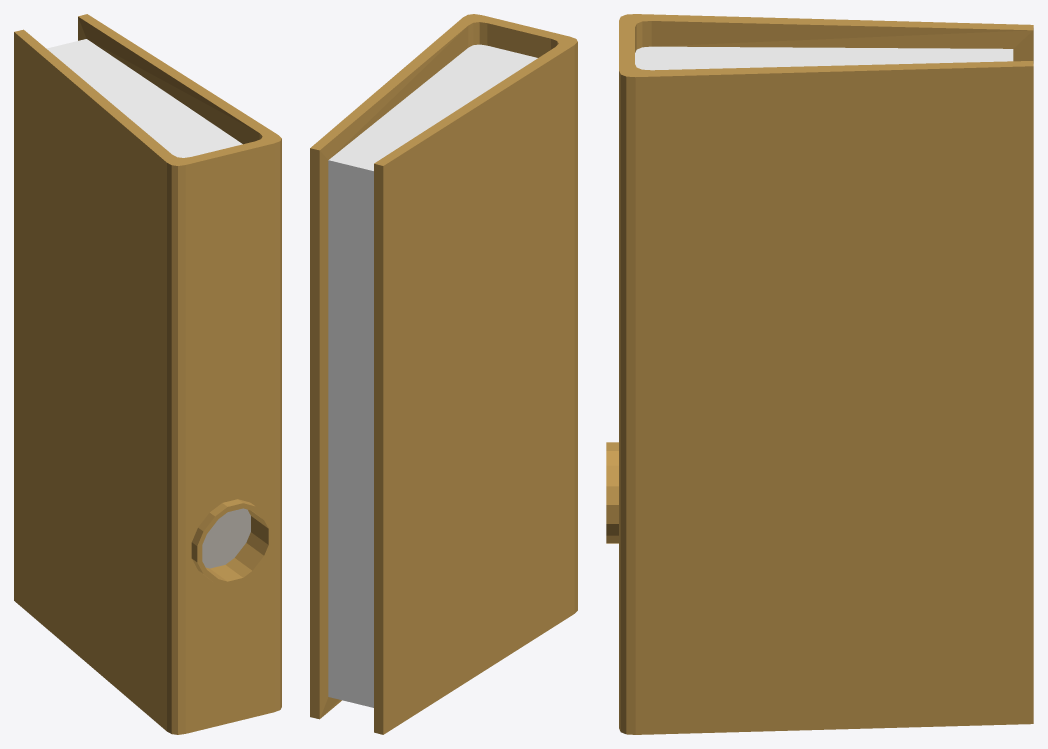
The model's file is Pasta.FBX.
3 views of the same model, side by side, from view 1: azimuth 30°, elevation 25°; view 2: azimuth 150°, elevation 25°; view 3: azimuth 270°, elevation 25° (orthographic). The views are drawn at different scales.
Parts seen in each view (by area): view 1: OBJ_Pasta; view 2: OBJ_Pasta; view 3: OBJ_Pasta.
Part boxes in pixels (x1=…): OBJ_Pasta: x1=14, y1=14, x2=281, y2=734; OBJ_Pasta: x1=310, y1=14, x2=577, y2=734; OBJ_Pasta: x1=606, y1=14, x2=1033, y2=734.
Bounding box in the file's own units: 3.51 × 17.06 × 10.04.
